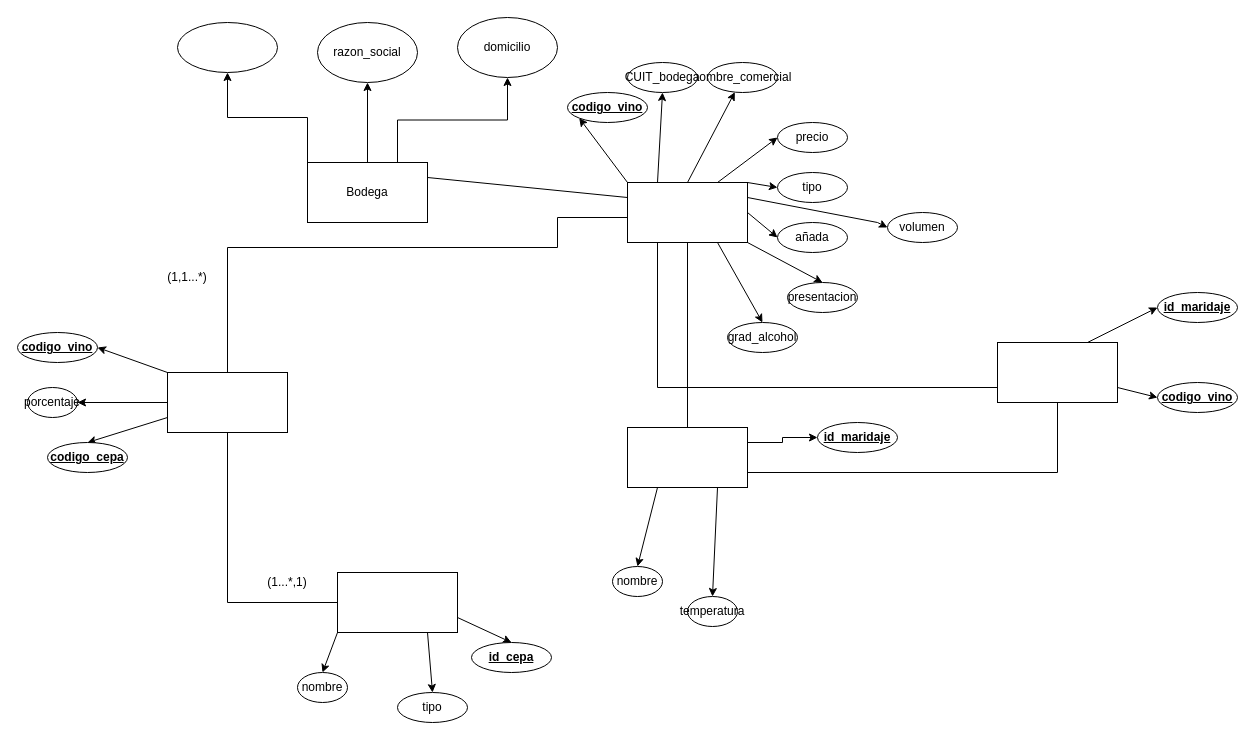
Some shapes in this 1255 by 740 pixel diagram are drawn without their labels. The shapes that lost their labels are listed below. From the top down, each one's centre as x and y in pixels, then its label:
the point at 227,47: CUIT
the point at 687,212: Vino
the point at 1057,372: Vino Maridaje
the point at 227,402: Vino Cepa
the point at 687,457: Maridaje
the point at 397,602: Cepa
